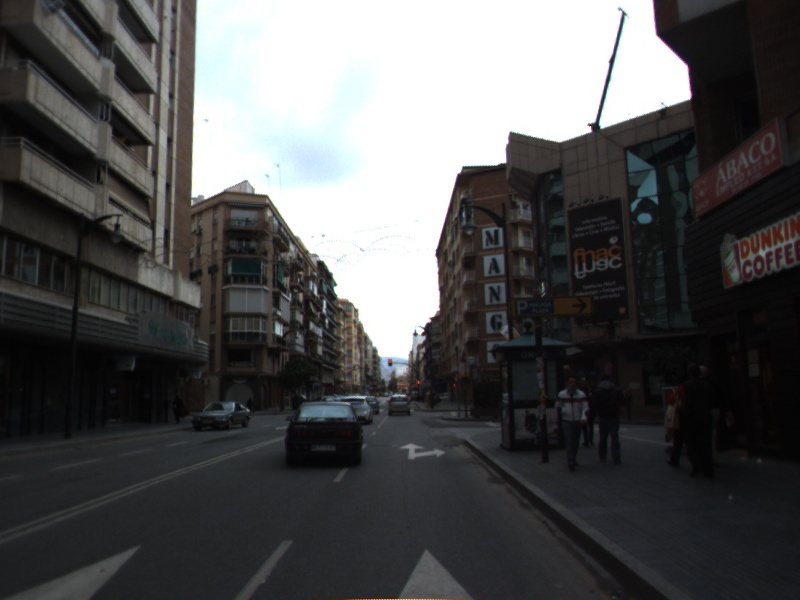STRAIGHT_RIGHT: (398, 441, 447, 461)
